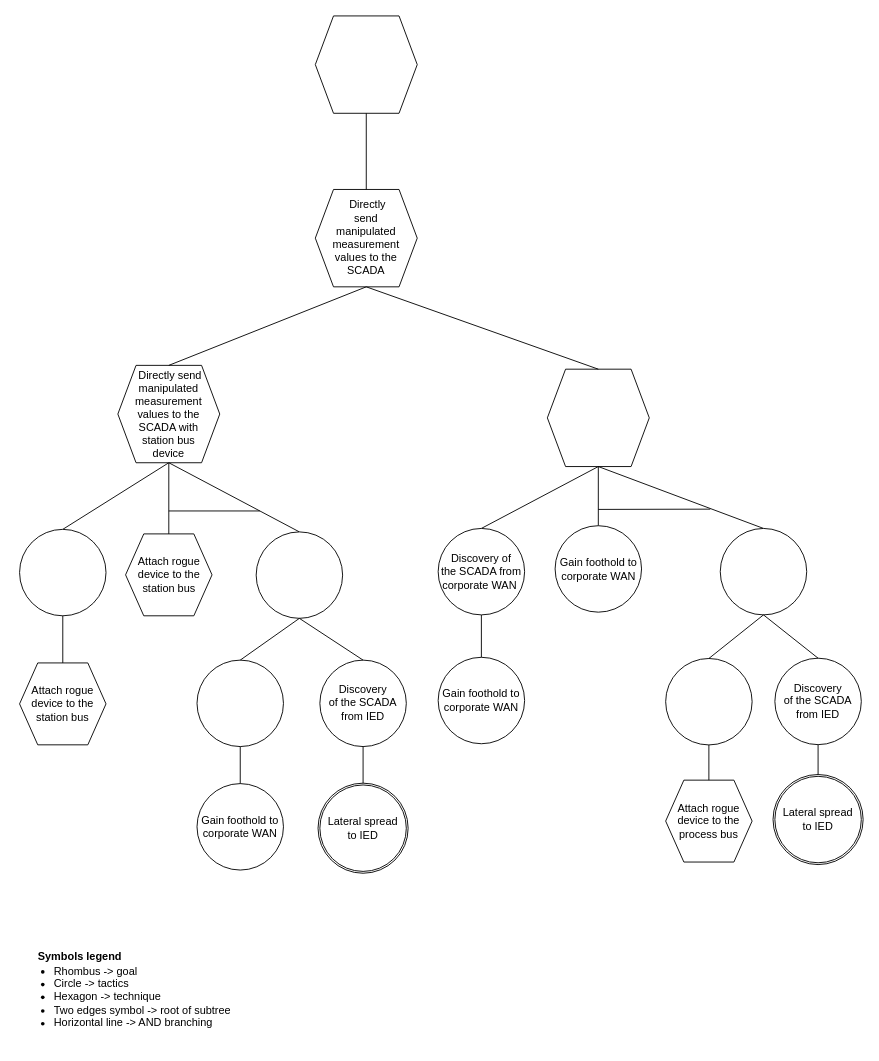
Some shapes in this 879 by 1061 pixel diagram are drawn without their labels. The centre of each missing label's shape, as x and y in pixels:
"Directly send manipulated measurement values to the SCADA from corporate WAN" goes at [597,417].
"Discovery of SCADA from corporate WAN" goes at [239,703].
"Discovery of SCADA with station bus device" goes at [708,701].
"Discovery of SCADA without station bus device" goes at [299,574].
"Discovery of the SCADA not from corporate WAN" goes at [763,571].
"Discovery of the SCADA with the station bus device" goes at [62,572].
"Manipulate measurement values" goes at [365,64].
